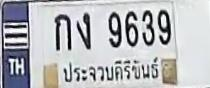0: (124, 10, 138, 46)
3: (141, 9, 154, 45)
6: (124, 10, 138, 46)
9: (107, 11, 121, 47), (157, 9, 170, 44)
A01: (54, 13, 71, 50)
A07: (76, 12, 90, 49)
PKN: (57, 55, 162, 83)
